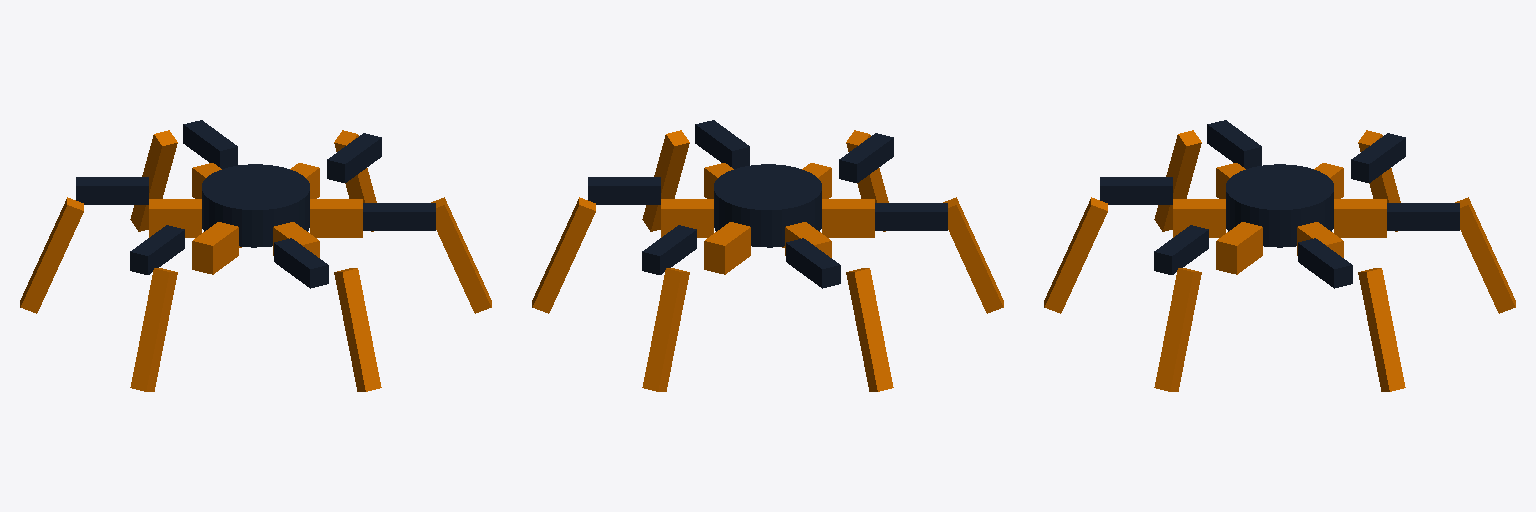
The robot description file, URDF, robot "hexaloam":
<?xml version="1.0"?>
<!-- HexaLoam Canonical 18-DOF URDF
     Dimensions derived from simulation/cad-export/Full_Robot_Assembly.xml
     Canonical joint names: LF_COXA..RR_TIBIA (control/robot-configuration/hexaloam_config.json) -->
<!-- Joint effort = 2.157 N*m: each joint is driven by two back-to-back MG996R servos (MA1 + MA2),
     2 x 1.0787 N*m stall torque at 6.0 V. This is the stall (peak) torque; the continuous design target is 70% of it. -->
<robot name="hexaloam">
  <material name="amber_pla"><color rgba="0.85 0.47 0.02 1.0"/></material>
  <material name="slate_dark"><color rgba="0.12 0.16 0.22 1.0"/></material>

  <link name="base_link">
    <inertial>
      <origin xyz="-0.00112 -0.019996 -0.000906" rpy="0 0 0"/>
      <mass value="0.432316"/>
      <inertia ixx="0.002" ixy="0" ixz="0" iyy="0.002" iyz="0" izz="0.003"/>
    </inertial>
    <visual>
      <origin xyz="0 0 0" rpy="0 0 0"/>
      <geometry><cylinder radius="0.090" length="0.068"/></geometry>
      <material name="slate_dark"/>
    </visual>
    <collision>
      <origin xyz="0 0 0" rpy="0 0 0"/>
      <geometry><cylinder radius="0.090" length="0.068"/></geometry>
    </collision>
  </link>

  <link name="rplidar_link">
    <inertial>
      <origin xyz="0 0 0" rpy="0 0 0"/>
      <mass value="0.073084"/>
      <inertia ixx="0.0001" ixy="0" ixz="0" iyy="0.0001" iyz="0" izz="0.0001"/>
    </inertial>
    <visual>
      <geometry><cylinder radius="0.038" length="0.041"/></geometry>
      <material name="amber_pla"/>
    </visual>
  </link>
  <joint name="rplidar_joint" type="fixed">
    <parent link="base_link"/>
    <child link="rplidar_link"/>
    <origin xyz="-0.042 0.0 -0.029" rpy="3.14159265 0 0"/>
  </joint>

  <!-- Leg macros expanded explicitly for all 6 legs and 18 canonical revolute joints -->
  <!-- LF (+30 deg) -->
  <link name="LF_coxa_link"><inertial><mass value="0.181714"/><inertia ixx="1e-4" ixy="0" ixz="0" iyy="1e-4" iyz="0" izz="1e-4"/></inertial><visual><origin xyz="0.043263 0 0.02635"/><geometry><box size="0.0865264 0.040 0.0527"/></geometry><material name="amber_pla"/></visual></link>
  <joint name="LF_COXA" type="revolute"><parent link="base_link"/><child link="LF_coxa_link"/><origin xyz="0.0779423 0.0450000 -0.0496718" rpy="0 0 0.5235987756"/><axis xyz="0 0 1"/><limit lower="-0.785398" upper="0.785398" effort="2.157" velocity="4.5"/></joint>
  <link name="LF_femur_link"><inertial><mass value="0.103983"/><inertia ixx="1e-4" ixy="0" ixz="0" iyy="1e-4" iyz="0" izz="1e-4"/></inertial><visual><origin xyz="0.0605308 0 0"/><geometry><box size="0.1210616 0.035 0.035"/></geometry><material name="slate_dark"/></visual></link>
  <joint name="LF_FEMUR" type="revolute"><parent link="LF_coxa_link"/><child link="LF_femur_link"/><origin xyz="0.0865264 -0.0510 0.0527" rpy="0 0 0"/><axis xyz="0 -1 0"/><limit lower="-1.22173" upper="1.22173" effort="2.157" velocity="4.5"/></joint>
  <link name="LF_tibia_link"><inertial><mass value="0.281617"/><inertia ixx="2e-4" ixy="0" ixz="0" iyy="2e-4" iyz="0" izz="2e-4"/></inertial><visual><origin xyz="0.10125 0.0510 0"/><geometry><box size="0.2025 0.030 0.030"/></geometry><material name="amber_pla"/></visual></link>
  <joint name="LF_TIBIA" type="revolute"><parent link="LF_femur_link"/><child link="LF_tibia_link"/><origin xyz="0.1210616 0 0" rpy="0 0 0"/><axis xyz="0 -1 0"/><limit lower="-2.094395" upper="-0.261799" effort="2.157" velocity="4.5"/></joint>

  <!-- LM (+90 deg) -->
  <link name="LM_coxa_link"><inertial><mass value="0.181714"/><inertia ixx="1e-4" ixy="0" ixz="0" iyy="1e-4" iyz="0" izz="1e-4"/></inertial><visual><origin xyz="0.043263 0 0.02635"/><geometry><box size="0.0865264 0.040 0.0527"/></geometry><material name="amber_pla"/></visual></link>
  <joint name="LM_COXA" type="revolute"><parent link="base_link"/><child link="LM_coxa_link"/><origin xyz="0.0 0.0900000 -0.0496718" rpy="0 0 1.5707963268"/><axis xyz="0 0 1"/><limit lower="-0.785398" upper="0.785398" effort="2.157" velocity="4.5"/></joint>
  <link name="LM_femur_link"><inertial><mass value="0.103983"/><inertia ixx="1e-4" ixy="0" ixz="0" iyy="1e-4" iyz="0" izz="1e-4"/></inertial><visual><origin xyz="0.0605308 0 0"/><geometry><box size="0.1210616 0.035 0.035"/></geometry><material name="slate_dark"/></visual></link>
  <joint name="LM_FEMUR" type="revolute"><parent link="LM_coxa_link"/><child link="LM_femur_link"/><origin xyz="0.0865264 -0.0510 0.0527" rpy="0 0 0"/><axis xyz="0 -1 0"/><limit lower="-1.22173" upper="1.22173" effort="2.157" velocity="4.5"/></joint>
  <link name="LM_tibia_link"><inertial><mass value="0.281617"/><inertia ixx="2e-4" ixy="0" ixz="0" iyy="2e-4" iyz="0" izz="2e-4"/></inertial><visual><origin xyz="0.10125 0.0510 0"/><geometry><box size="0.2025 0.030 0.030"/></geometry><material name="amber_pla"/></visual></link>
  <joint name="LM_TIBIA" type="revolute"><parent link="LM_femur_link"/><child link="LM_tibia_link"/><origin xyz="0.1210616 0 0" rpy="0 0 0"/><axis xyz="0 -1 0"/><limit lower="-2.094395" upper="-0.261799" effort="2.157" velocity="4.5"/></joint>

  <!-- LR (+150 deg) -->
  <link name="LR_coxa_link"><inertial><mass value="0.181714"/><inertia ixx="1e-4" ixy="0" ixz="0" iyy="1e-4" iyz="0" izz="1e-4"/></inertial><visual><origin xyz="0.043263 0 0.02635"/><geometry><box size="0.0865264 0.040 0.0527"/></geometry><material name="amber_pla"/></visual></link>
  <joint name="LR_COXA" type="revolute"><parent link="base_link"/><child link="LR_coxa_link"/><origin xyz="-0.0779423 0.0450000 -0.0496718" rpy="0 0 2.617993878"/><axis xyz="0 0 1"/><limit lower="-0.785398" upper="0.785398" effort="2.157" velocity="4.5"/></joint>
  <link name="LR_femur_link"><inertial><mass value="0.103983"/><inertia ixx="1e-4" ixy="0" ixz="0" iyy="1e-4" iyz="0" izz="1e-4"/></inertial><visual><origin xyz="0.0605308 0 0"/><geometry><box size="0.1210616 0.035 0.035"/></geometry><material name="slate_dark"/></visual></link>
  <joint name="LR_FEMUR" type="revolute"><parent link="LR_coxa_link"/><child link="LR_femur_link"/><origin xyz="0.0865264 -0.0510 0.0527" rpy="0 0 0"/><axis xyz="0 -1 0"/><limit lower="-1.22173" upper="1.22173" effort="2.157" velocity="4.5"/></joint>
  <link name="LR_tibia_link"><inertial><mass value="0.281617"/><inertia ixx="2e-4" ixy="0" ixz="0" iyy="2e-4" iyz="0" izz="2e-4"/></inertial><visual><origin xyz="0.10125 0.0510 0"/><geometry><box size="0.2025 0.030 0.030"/></geometry><material name="amber_pla"/></visual></link>
  <joint name="LR_TIBIA" type="revolute"><parent link="LR_femur_link"/><child link="LR_tibia_link"/><origin xyz="0.1210616 0 0" rpy="0 0 0"/><axis xyz="0 -1 0"/><limit lower="-2.094395" upper="-0.261799" effort="2.157" velocity="4.5"/></joint>

  <!-- RF (-30 deg) -->
  <link name="RF_coxa_link"><inertial><mass value="0.181714"/><inertia ixx="1e-4" ixy="0" ixz="0" iyy="1e-4" iyz="0" izz="1e-4"/></inertial><visual><origin xyz="0.043263 0 0.02635"/><geometry><box size="0.0865264 0.040 0.0527"/></geometry><material name="amber_pla"/></visual></link>
  <joint name="RF_COXA" type="revolute"><parent link="base_link"/><child link="RF_coxa_link"/><origin xyz="0.0779423 -0.0450000 -0.0496718" rpy="0 0 -0.5235987756"/><axis xyz="0 0 1"/><limit lower="-0.785398" upper="0.785398" effort="2.157" velocity="4.5"/></joint>
  <link name="RF_femur_link"><inertial><mass value="0.103983"/><inertia ixx="1e-4" ixy="0" ixz="0" iyy="1e-4" iyz="0" izz="1e-4"/></inertial><visual><origin xyz="0.0605308 0 0"/><geometry><box size="0.1210616 0.035 0.035"/></geometry><material name="slate_dark"/></visual></link>
  <joint name="RF_FEMUR" type="revolute"><parent link="RF_coxa_link"/><child link="RF_femur_link"/><origin xyz="0.0865264 -0.0510 0.0527" rpy="0 0 0"/><axis xyz="0 -1 0"/><limit lower="-1.22173" upper="1.22173" effort="2.157" velocity="4.5"/></joint>
  <link name="RF_tibia_link"><inertial><mass value="0.281617"/><inertia ixx="2e-4" ixy="0" ixz="0" iyy="2e-4" iyz="0" izz="2e-4"/></inertial><visual><origin xyz="0.10125 0.0510 0"/><geometry><box size="0.2025 0.030 0.030"/></geometry><material name="amber_pla"/></visual></link>
  <joint name="RF_TIBIA" type="revolute"><parent link="RF_femur_link"/><child link="RF_tibia_link"/><origin xyz="0.1210616 0 0" rpy="0 0 0"/><axis xyz="0 -1 0"/><limit lower="-2.094395" upper="-0.261799" effort="2.157" velocity="4.5"/></joint>

  <!-- RM (-90 deg) -->
  <link name="RM_coxa_link"><inertial><mass value="0.181714"/><inertia ixx="1e-4" ixy="0" ixz="0" iyy="1e-4" iyz="0" izz="1e-4"/></inertial><visual><origin xyz="0.043263 0 0.02635"/><geometry><box size="0.0865264 0.040 0.0527"/></geometry><material name="amber_pla"/></visual></link>
  <joint name="RM_COXA" type="revolute"><parent link="base_link"/><child link="RM_coxa_link"/><origin xyz="0.0 -0.0900000 -0.0496718" rpy="0 0 -1.5707963268"/><axis xyz="0 0 1"/><limit lower="-0.785398" upper="0.785398" effort="2.157" velocity="4.5"/></joint>
  <link name="RM_femur_link"><inertial><mass value="0.103983"/><inertia ixx="1e-4" ixy="0" ixz="0" iyy="1e-4" iyz="0" izz="1e-4"/></inertial><visual><origin xyz="0.0605308 0 0"/><geometry><box size="0.1210616 0.035 0.035"/></geometry><material name="slate_dark"/></visual></link>
  <joint name="RM_FEMUR" type="revolute"><parent link="RM_coxa_link"/><child link="RM_femur_link"/><origin xyz="0.0865264 -0.0510 0.0527" rpy="0 0 0"/><axis xyz="0 -1 0"/><limit lower="-1.22173" upper="1.22173" effort="2.157" velocity="4.5"/></joint>
  <link name="RM_tibia_link"><inertial><mass value="0.281617"/><inertia ixx="2e-4" ixy="0" ixz="0" iyy="2e-4" iyz="0" izz="2e-4"/></inertial><visual><origin xyz="0.10125 0.0510 0"/><geometry><box size="0.2025 0.030 0.030"/></geometry><material name="amber_pla"/></visual></link>
  <joint name="RM_TIBIA" type="revolute"><parent link="RM_femur_link"/><child link="RM_tibia_link"/><origin xyz="0.1210616 0 0" rpy="0 0 0"/><axis xyz="0 -1 0"/><limit lower="-2.094395" upper="-0.261799" effort="2.157" velocity="4.5"/></joint>

  <!-- RR (-150 deg) -->
  <link name="RR_coxa_link"><inertial><mass value="0.181714"/><inertia ixx="1e-4" ixy="0" ixz="0" iyy="1e-4" iyz="0" izz="1e-4"/></inertial><visual><origin xyz="0.043263 0 0.02635"/><geometry><box size="0.0865264 0.040 0.0527"/></geometry><material name="amber_pla"/></visual></link>
  <joint name="RR_COXA" type="revolute"><parent link="base_link"/><child link="RR_coxa_link"/><origin xyz="-0.0779423 -0.0450000 -0.0496718" rpy="0 0 -2.617993878"/><axis xyz="0 0 1"/><limit lower="-0.785398" upper="0.785398" effort="2.157" velocity="4.5"/></joint>
  <link name="RR_femur_link"><inertial><mass value="0.103983"/><inertia ixx="1e-4" ixy="0" ixz="0" iyy="1e-4" iyz="0" izz="1e-4"/></inertial><visual><origin xyz="0.0605308 0 0"/><geometry><box size="0.1210616 0.035 0.035"/></geometry><material name="slate_dark"/></visual></link>
  <joint name="RR_FEMUR" type="revolute"><parent link="RR_coxa_link"/><child link="RR_femur_link"/><origin xyz="0.0865264 -0.0510 0.0527" rpy="0 0 0"/><axis xyz="0 -1 0"/><limit lower="-1.22173" upper="1.22173" effort="2.157" velocity="4.5"/></joint>
  <link name="RR_tibia_link"><inertial><mass value="0.281617"/><inertia ixx="2e-4" ixy="0" ixz="0" iyy="2e-4" iyz="0" izz="2e-4"/></inertial><visual><origin xyz="0.10125 0.0510 0"/><geometry><box size="0.2025 0.030 0.030"/></geometry><material name="amber_pla"/></visual></link>
  <joint name="RR_TIBIA" type="revolute"><parent link="RR_femur_link"/><child link="RR_tibia_link"/><origin xyz="0.1210616 0 0" rpy="0 0 0"/><axis xyz="0 -1 0"/><limit lower="-2.094395" upper="-0.261799" effort="2.157" velocity="4.5"/></joint>
</robot>

--- Render facts (derived) ---
The picture shows the robot from 3 angles, left to right: view 1: azimuth 30°, elevation 25°; view 2: azimuth 150°, elevation 25°; view 3: azimuth 270°, elevation 25°; orthographic projection.
Model hexaloam with 20 links and 19 joints (18 revolute, 1 fixed), rooted at base_link, posed joints at zero except 6 at the middle of their limits (LF_TIBIA = -1.18, LM_TIBIA = -1.18, LR_TIBIA = -1.18, RF_TIBIA = -1.18, RM_TIBIA = -1.18, RR_TIBIA = -1.18).
Links seen in each view (by area): view 1: base_link, RM_tibia_link, RR_tibia_link, LR_tibia_link, RF_tibia_link, RF_coxa_link, RF_femur_link, LR_femur_link, LM_tibia_link, RR_coxa_link, LR_coxa_link, LF_femur_link (+5 smaller); view 2: base_link, LM_tibia_link, LR_tibia_link, LF_tibia_link, RR_tibia_link, RR_coxa_link, RR_femur_link, LF_femur_link, RF_tibia_link, LM_coxa_link, LF_coxa_link, RM_femur_link (+5 smaller); view 3: base_link, LF_tibia_link, RF_tibia_link, RM_tibia_link, LM_tibia_link, LM_coxa_link, LM_femur_link, RM_femur_link, RR_tibia_link, RF_coxa_link, RM_coxa_link, LR_femur_link (+5 smaller).
Link boxes in pixels (x1,y1,x2,y2): base_link: [202, 164, 309, 247]; RM_tibia_link: [334, 268, 381, 391]; RR_tibia_link: [130, 268, 177, 391]; LR_tibia_link: [20, 197, 83, 313]; RF_tibia_link: [431, 197, 491, 313]; RF_coxa_link: [310, 199, 362, 237]; RF_femur_link: [363, 203, 435, 230]; LR_femur_link: [76, 177, 148, 204]; LM_tibia_link: [130, 130, 177, 231]; RR_coxa_link: [192, 222, 238, 274]; LR_coxa_link: [149, 199, 201, 237]; LF_femur_link: [327, 133, 381, 182]; base_link: [714, 164, 821, 247]; LM_tibia_link: [642, 268, 689, 391]; LR_tibia_link: [846, 268, 893, 391]; LF_tibia_link: [532, 197, 595, 313]; RR_tibia_link: [943, 197, 1003, 313]; RR_coxa_link: [822, 199, 874, 237]; RR_femur_link: [875, 203, 947, 230]; LF_femur_link: [588, 177, 660, 204]; RF_tibia_link: [642, 130, 689, 231]; LM_coxa_link: [704, 222, 750, 274]; LF_coxa_link: [661, 199, 713, 237]; RM_femur_link: [839, 133, 893, 182]; base_link: [1226, 164, 1333, 247]; LF_tibia_link: [1358, 268, 1405, 391]; RF_tibia_link: [1154, 268, 1201, 391]; RM_tibia_link: [1044, 197, 1107, 313]; LM_tibia_link: [1455, 197, 1515, 313]; LM_coxa_link: [1334, 199, 1386, 237]; LM_femur_link: [1387, 203, 1459, 230]; RM_femur_link: [1100, 177, 1172, 204]; RR_tibia_link: [1154, 130, 1201, 231]; RF_coxa_link: [1216, 222, 1262, 274]; RM_coxa_link: [1173, 199, 1225, 237]; LR_femur_link: [1351, 133, 1405, 182].
Bounding box of the posed robot: 0.6887 × 0.7779 × 0.2238 m (x, y, z).
Geometry: primitives only (box / cylinder / sphere), no mesh files.
